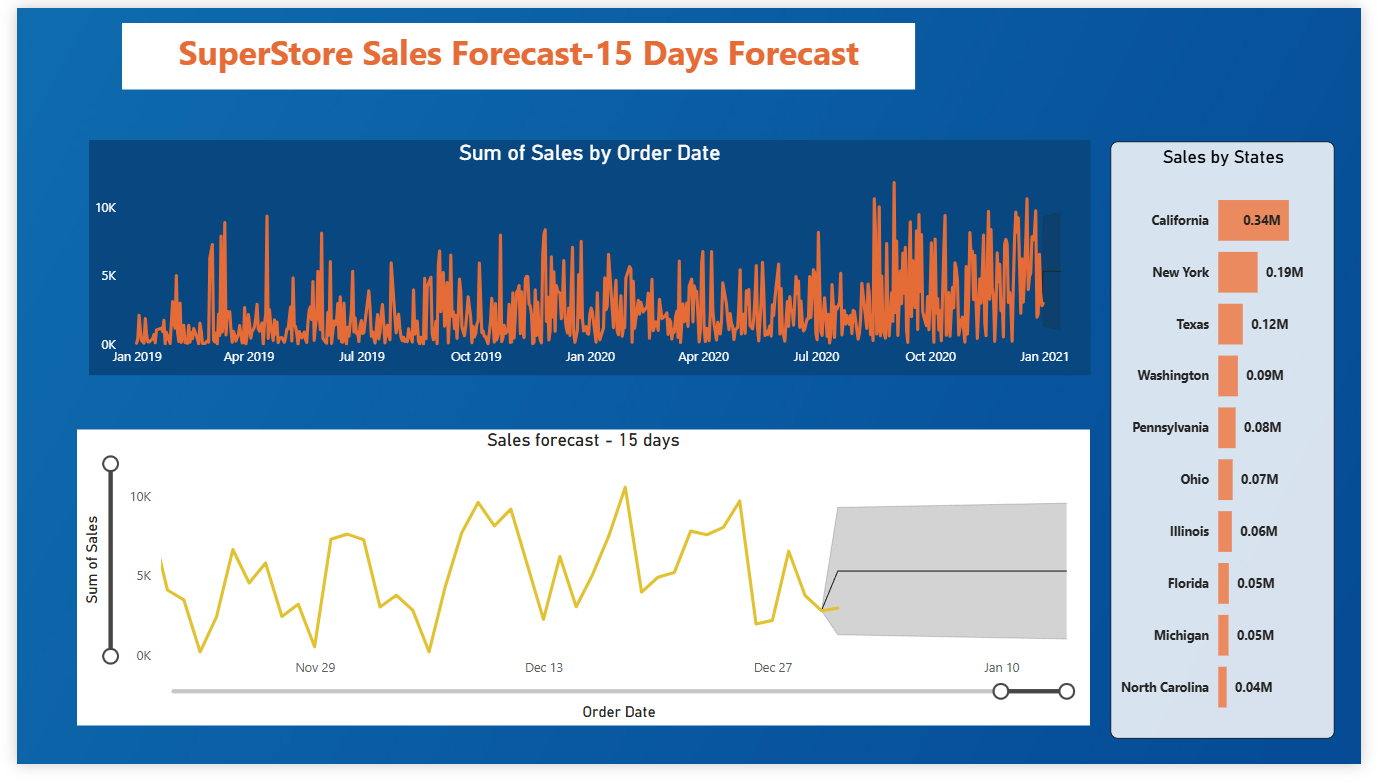

What the dashboard file says about the page in this screenshot:
{"tool":"powerbi","page":{"name":"Page 2","canvas":[1280,720],"ordinal":1},"visuals":[{"type":"lineChart","fields":{"Y":["Sum(SuperStore_Sales_Dataset (2).Sales)"],"Category":["SuperStore_Sales_Dataset (2).Order Date"]},"box":[68.1,125.7,953.9,224.1],"z":0},{"type":"lineChart","title":"Sales forecast - 15 days","fields":{"Y":["Sum(SuperStore_Sales_Dataset (2).Sales)"],"Category":["SuperStore_Sales_Dataset (2).Order Date"]},"box":[57.5,401.3,964.5,281.6],"z":1000},{"type":"textbox","box":[100,14.9,755.6,63.5],"z":2000},{"type":"clusteredBarChart","title":"Sales by States","fields":{"Category":["SuperStore_Sales_Dataset (2).State"],"Y":["Sum(SuperStore_Sales_Dataset (2).Sales)"]},"box":[1041.3,126.6,213.5,568.8],"z":3000}]}

Visuals, with their boxes in screenshot pixels (x1, y1, x2, y2), scaled from the page's 1280x720 canvas onto the 1387x783 screenshot:
lineChart - Sum(SuperStore_Sales_Dataset (2).Sales) x SuperStore_Sales_Dataset (2).Order Date: bbox=(74, 137, 1107, 380)
"Sales forecast - 15 days" lineChart: bbox=(62, 436, 1107, 743)
textbox: bbox=(108, 16, 927, 85)
"Sales by States" clusteredBarChart: bbox=(1128, 138, 1360, 756)
